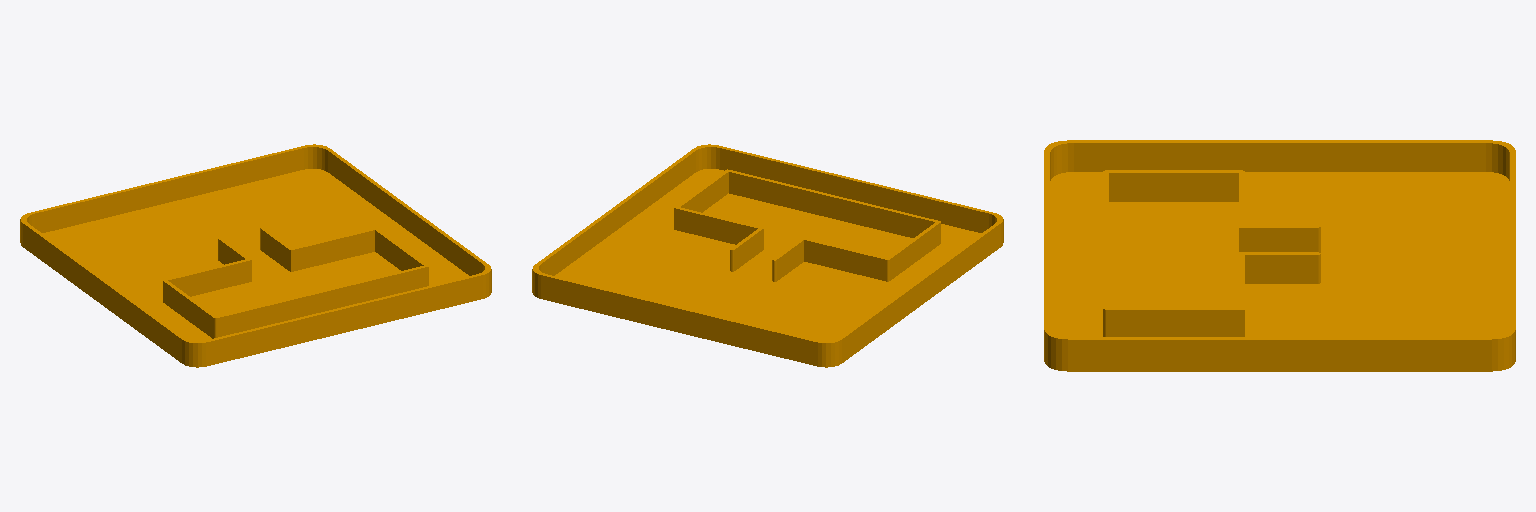
URDF robot description (arena):
<?xml version="1.0" encoding="utf-8"?>
<!-- =================================================================================== -->
<!-- |    This document was autogenerated by xacro from arena.urdf.xacro               | -->
<!-- |    EDITING THIS FILE BY HAND IS NOT RECOMMENDED                                 | -->
<!-- =================================================================================== -->
<robot name="arena">
  <link name="arena_link">
    <collision>
      <origin rpy="0 0 -4.71238898038" xyz="0 0 0"/>
      <!-- <origin xyz="0 0 0" rpy="0 0 0" /> -->
      <geometry>
        <mesh filename="package://hero_gazebo/worlds/models/arena_7/arena.obj" scale="1 1 1"/>
      </geometry>
    </collision>
    <visual>
      <origin rpy="0 0 -4.71238898038" xyz="0 0 0"/>
      <!-- <origin xyz="0 0 0" rpy="0 0 0" /> -->
      <geometry>
        <mesh filename="package://hero_gazebo/worlds/models/arena_7/arena.obj" scale="1 1 1"/>
      </geometry>
    </visual>
    <inertial>
      <origin rpy="0 0 0" xyz="0 0 0"/>
      <mass value="100"/>
      <inertia ixx="134.083333333" ixy="0" ixz="0" iyy="134.083333333" iyz="0" izz="134.083333333"/>
    </inertial>
  </link>
  <gazebo reference="arena_link">
    <static>true</static>
    <gravity>false</gravity>
    <selfCollide>false</selfCollide>
  </gazebo>
</robot>

--- Facts derived from the render (not from the file) ---
The picture shows the robot from 3 angles, left to right: view 1: azimuth 30°, elevation 25°; view 2: azimuth 150°, elevation 25°; view 3: azimuth 270°, elevation 25°; orthographic projection.
Robot: arena — 1 links, 0 joints (none); root link arena_link; default pose: every joint at zero.
Visible links, largest first — view 1: arena_link; view 2: arena_link; view 3: arena_link.
Link boxes in pixels (bbox=[...]): arena_link: bbox=[20, 144, 491, 367]; arena_link: bbox=[532, 144, 1003, 367]; arena_link: bbox=[1044, 140, 1515, 371].
Bounding box of the posed robot: 4 × 4 × 0.3 m (x, y, z).
Meshes: 1 distinct files referenced, 1 mesh visuals loaded (1 OBJ).
